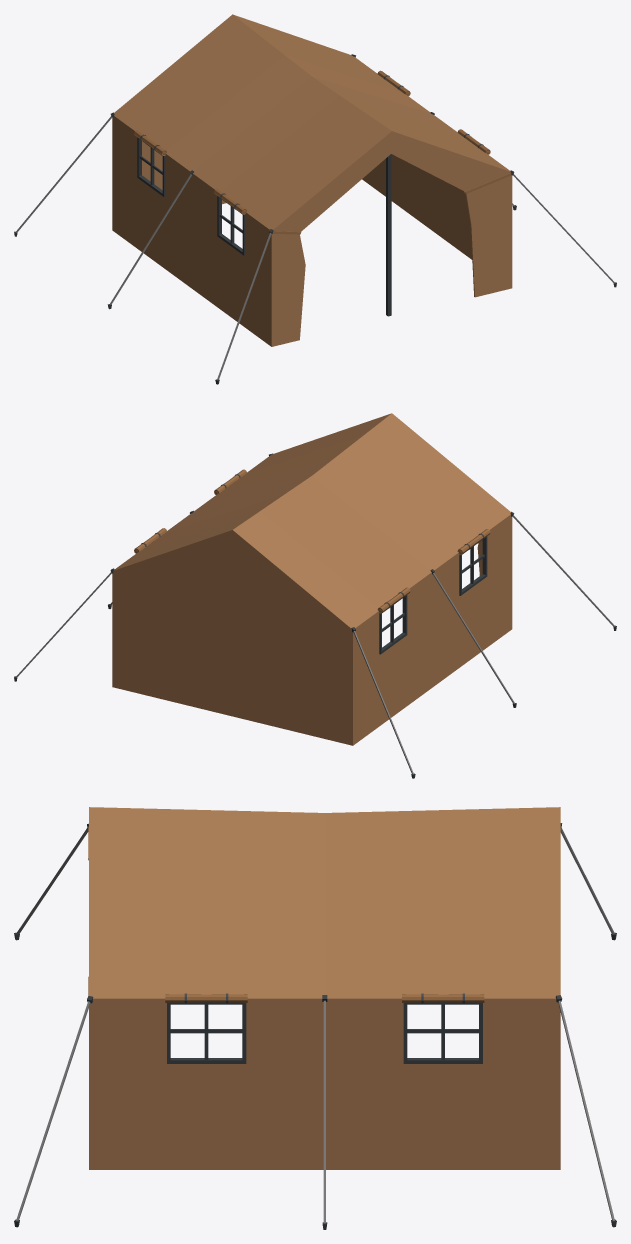
Rendered from Tent_08.fbx.
The picture shows the model from 3 angles, top to bottom: view 1: azimuth 30°, elevation 25°; view 2: azimuth 150°, elevation 25°; view 3: azimuth 270°, elevation 25°; orthographic projection. The views are drawn at different scales.
Visible parts, largest first — view 1: Tent_08; view 2: Tent_08; view 3: Tent_08.
Boxes of the visible parts, x1,y1,x2,y2 form: Tent_08: (14, 14, 616, 384); Tent_08: (14, 413, 616, 778); Tent_08: (14, 807, 616, 1229).
Bounding box in the file's own units: 656 × 287 × 569.
